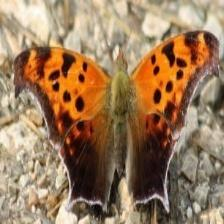butterfly: (14, 31, 219, 212)
